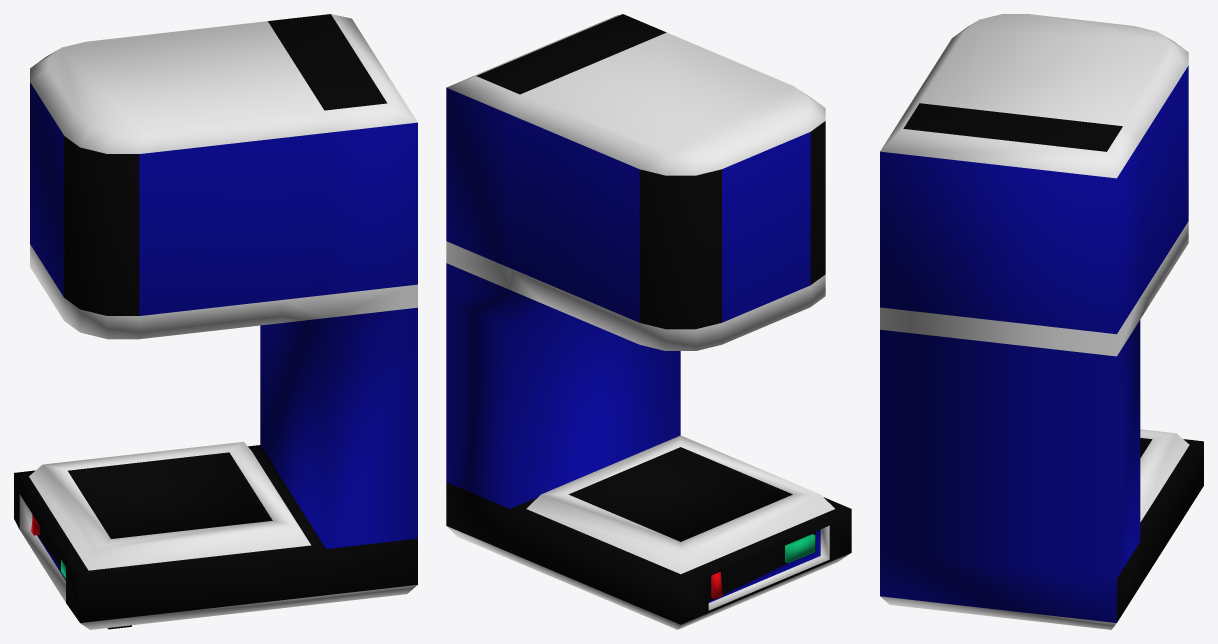
The model's file is IntactCoffeeMachine.fbx.
3 renders of one model, left to right at view 1: azimuth 30°, elevation 25°; view 2: azimuth 150°, elevation 25°; view 3: azimuth 270°, elevation 25°, orthographic. The views are drawn at different scales.
Visible parts, largest first — view 1: CoffeMachine; view 2: CoffeMachine; view 3: CoffeMachine.
Boxes of the visible parts, x1,y1,x2,y2 form: CoffeMachine: [14, 14, 417, 629]; CoffeMachine: [446, 14, 851, 629]; CoffeMachine: [880, 14, 1203, 629].
Size of the model in its own units: 28.43 by 38.6 by 23.7.
